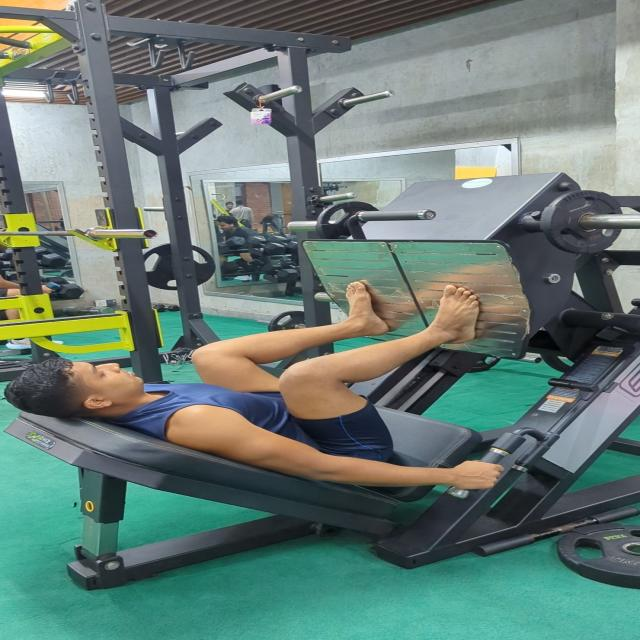Normal_LegPress: (9, 272, 533, 498)
